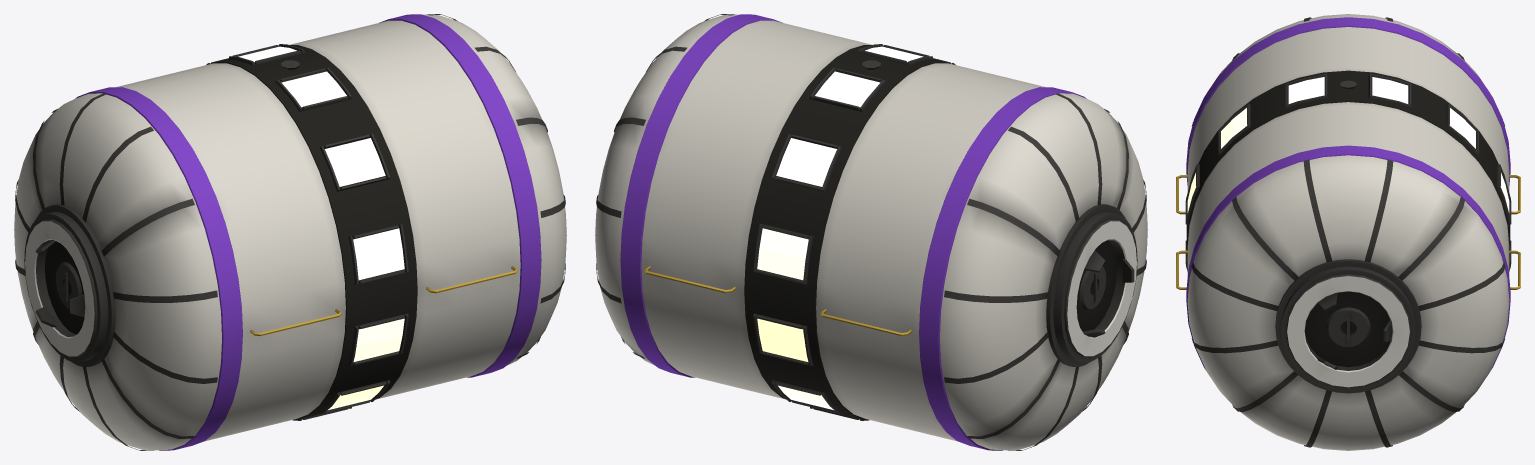
Rendered from habitat.glb.
3 views of the same model, side by side, from view 1: azimuth 30°, elevation 25°; view 2: azimuth 150°, elevation 25°; view 3: azimuth 270°, elevation 25° (orthographic). The views are drawn at different scales.
Visible parts, largest first — view 1: body, win_main_02, win_main_01, win_main_03, win_main_00; view 2: body, win_main_09, win_main_10, win_main_08, win_main_11; view 3: body, win_main_00, win_main_11, win_main_01, win_main_10.
Part boxes in pixels (x1,y1,x2,y2): body: (14,14,566,450); win_main_02: (353,228,404,280); win_main_01: (325,138,385,186); win_main_03: (353,318,404,361); win_main_00: (281,71,346,107); body: (595,14,1147,450); win_main_09: (757,228,808,280); win_main_10: (776,138,836,186); win_main_08: (757,318,808,361); win_main_11: (815,71,880,107); body: (1176,14,1520,450); win_main_00: (1288,77,1324,103); win_main_11: (1372,77,1408,103); win_main_01: (1221,108,1247,148); win_main_10: (1449,108,1475,148).
Size of the model in its own units: 7.33 by 4.87 by 5.14.
